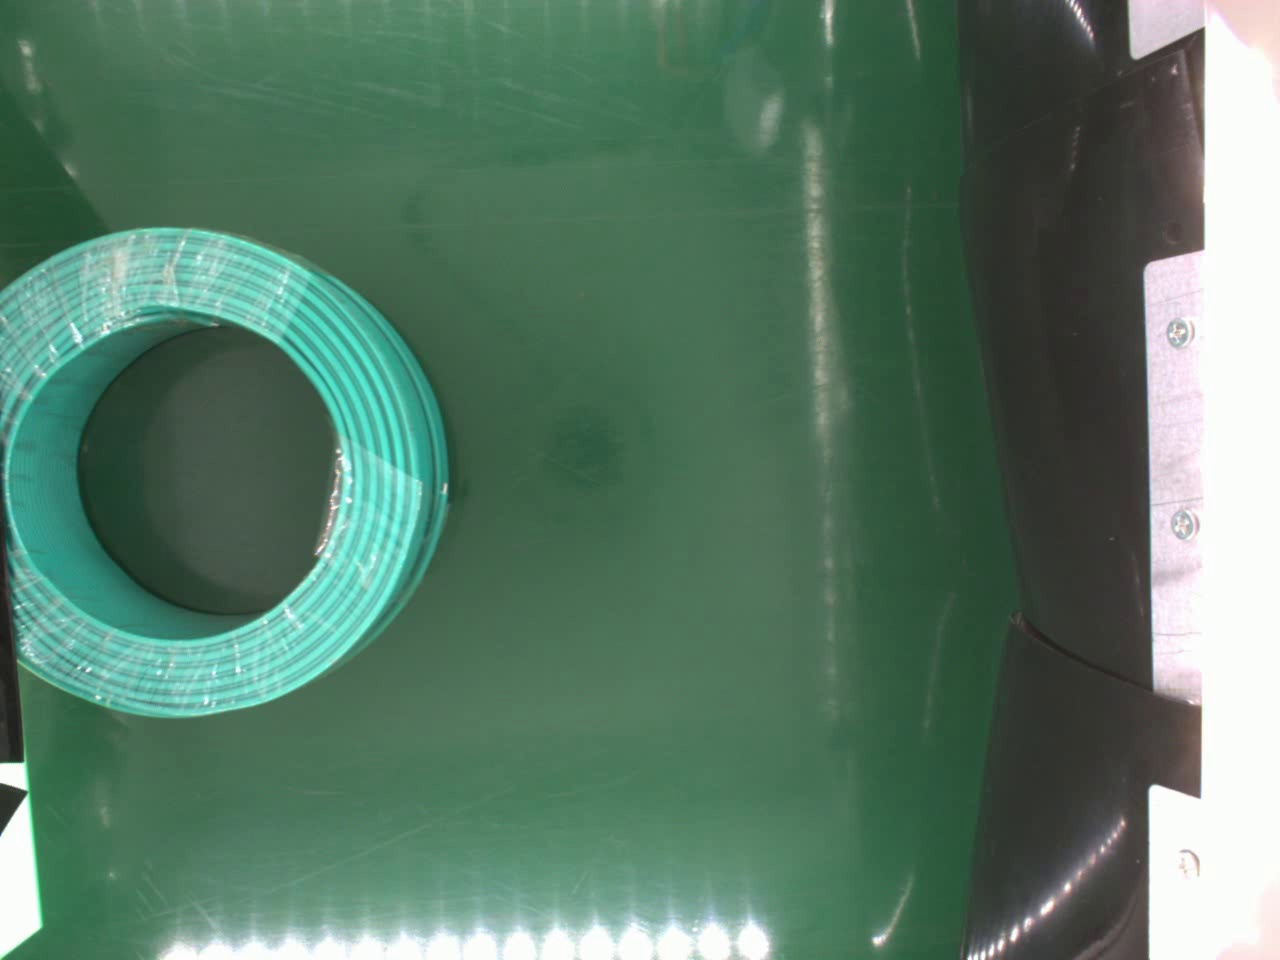green: (0, 225, 449, 726)
